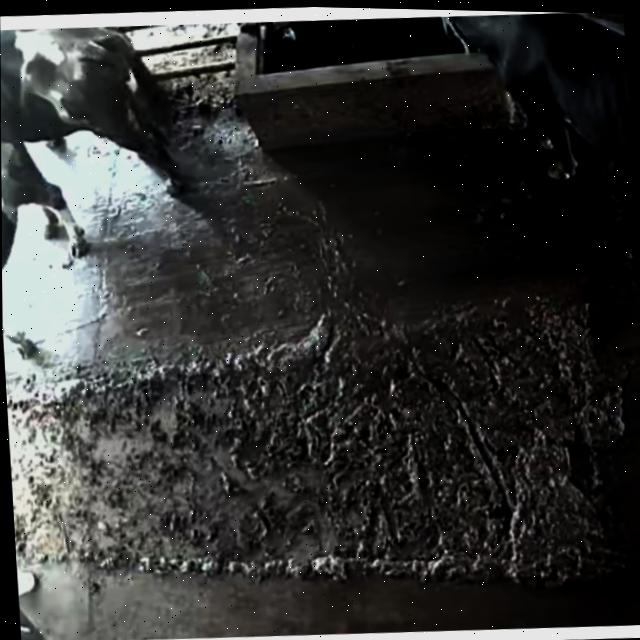drink: (409, 10, 541, 84)
